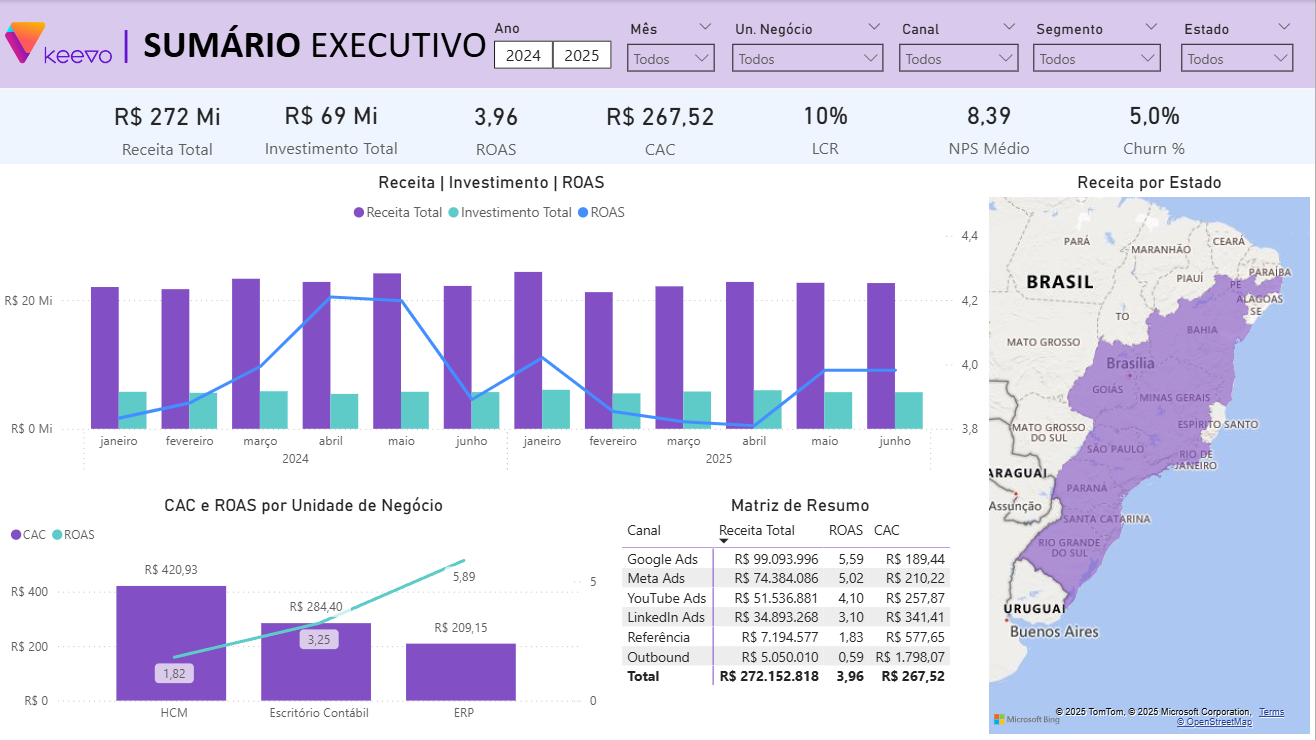

Layout of this report page (visuals, bound fields, positions):
{"tool":"powerbi","page":{"name":"Sumário Executivo","canvas":[1280,720],"ordinal":0},"visuals":[{"type":"filledMap","title":"Receita por Estado","fields":{"Category":["Sheet1.Estado"]},"box":[957.8,167.8,322.2,552.2],"z":0},{"type":"shape","box":[0,85.6,1280,74.4],"z":1000},{"type":"shape","box":[0,0,1280,85.6],"z":2000},{"type":"textbox","title":"SUMÁRIO EXECUTIVO","box":[110,14.6,454,61],"z":3000},{"type":"advancedSlicerVisual","title":"Ano","fields":{"Values":["Sheet1.Ano"]},"box":[476.6,13.6,124.5,58.4],"z":4000},{"type":"slicer","fields":{"Values":["Sheet1.Mês"]},"box":[601.1,14.4,105,58.4],"z":5000},{"type":"slicer","fields":{"Values":["Sheet1.Unidade de Negócio"]},"box":[703.2,14.4,167.3,58.4],"z":6000},{"type":"slicer","fields":{"Values":["Sheet1.Canal"]},"box":[865.7,14.4,136.2,58.4],"z":7000},{"type":"slicer","fields":{"Values":["Sheet1.Segmento"]},"box":[996,14.4,144,58.4],"z":8000},{"type":"image","box":[5.6,18.9,104.4,46.7],"z":9000},{"type":"card","fields":{"Values":["Sheet1.Receita Total"]},"box":[83.6,86.1,160,73],"z":10000},{"type":"card","fields":{"Values":["Sum(Sheet1.Investimento (R$))"]},"box":[243.3,85.6,160,73.3],"z":11000},{"type":"card","fields":{"Values":["Sheet1.ROAS"]},"box":[403.3,86.7,160,73.3],"z":12000},{"type":"card","fields":{"Values":["Sheet1.CAC"]},"box":[563.3,86.7,160,73.3],"z":13000},{"type":"card","fields":{"Values":["Sheet1.LCR"]},"box":[723.3,85.6,160,73.3],"z":14000},{"type":"card","fields":{"Values":["Avg(Sheet1.NPS)"]},"box":[883.3,85.6,160,73.3],"z":15000},{"type":"slicer","fields":{"Values":["Sheet1.Estado"]},"box":[1139.9,14.4,129.4,58.4],"z":16000},{"type":"lineClusteredColumnComboChart","title":"Receita | Investimento | ROAS","fields":{"Category":["Sheet1.Data.Variation.Hierarquia de datas.Ano","Sheet1.Data.Variation.Hierarquia de datas.Mês"],"Y":["Sheet1.Receita Total","Sheet1.Investimento Total"],"Y2":["Sheet1.ROAS"]},"box":[0,167.8,957.8,301.1],"z":17000},{"type":"lineClusteredColumnComboChart","fields":{"Category":["Sheet1.Unidade de Negócio"],"Y2":["Sheet1.ROAS"],"Y":["Sheet1.CAC"]},"box":[5.6,481,581.1,230],"z":18000},{"type":"pivotTable","title":"Matriz de Resumo","fields":{"Rows":["Sheet1.Canal"],"Values":["Sheet1.Receita Total","Sheet1.ROAS","Sheet1.CAC"]},"box":[601.1,481,356.7,230],"z":19000},{"type":"card","fields":{"Values":["Sheet1.Churn %"]},"box":[1043.3,85.6,160,73.3],"z":20000}]}

Visuals, with their boxes in screenshot pixels (x1, y1, x2, y2), scaled from the page's 1280x720 canvas onto the 1316x740 screenshot:
"Receita por Estado" filledMap: box(985, 172, 1315, 739)
shape: box(0, 88, 1315, 164)
shape: box(0, 0, 1315, 88)
"SUMÁRIO EXECUTIVO" textbox: box(113, 15, 580, 78)
"Ano" advancedSlicerVisual: box(490, 14, 618, 74)
slicer - Sheet1.Mês: box(618, 15, 726, 75)
slicer - Sheet1.Unidade de Negócio: box(723, 15, 895, 75)
slicer - Sheet1.Canal: box(890, 15, 1030, 75)
slicer - Sheet1.Segmento: box(1024, 15, 1172, 75)
image: box(6, 19, 113, 67)
card - Sheet1.Receita Total: box(86, 88, 250, 164)
card - Sum(Sheet1.Investimento (R$)): box(250, 88, 415, 163)
card - Sheet1.ROAS: box(415, 89, 579, 164)
card - Sheet1.CAC: box(579, 89, 744, 164)
card - Sheet1.LCR: box(744, 88, 908, 163)
card - Avg(Sheet1.NPS): box(908, 88, 1073, 163)
slicer - Sheet1.Estado: box(1172, 15, 1305, 75)
"Receita | Investimento | ROAS" lineClusteredColumnComboChart: box(0, 172, 985, 482)
lineClusteredColumnComboChart - Sheet1.Unidade de Negócio x Sheet1.ROAS: box(6, 494, 603, 731)
"Matriz de Resumo" pivotTable: box(618, 494, 985, 731)
card - Sheet1.Churn %: box(1073, 88, 1237, 163)
